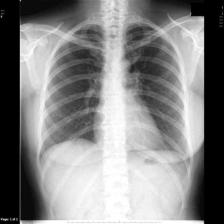tuberculosis: (37, 17, 196, 179)
